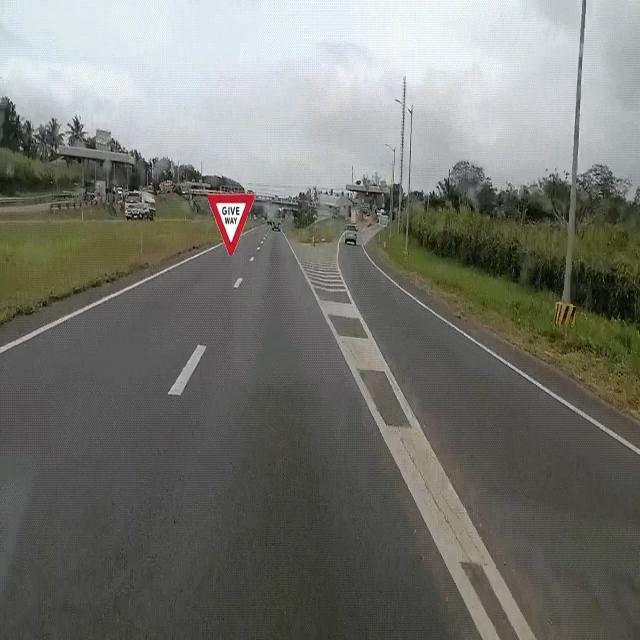Ceder-le-Passage: (206, 184, 256, 268)
